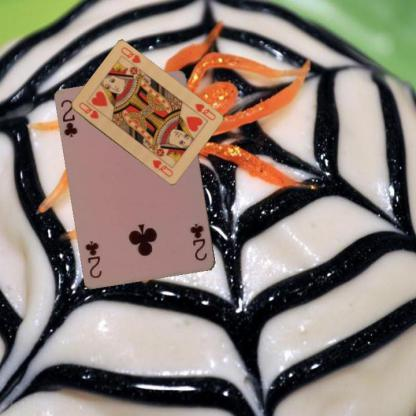2c: (58, 97, 80, 139), (187, 221, 208, 262)
Qh: (192, 101, 217, 122), (76, 100, 100, 121)
